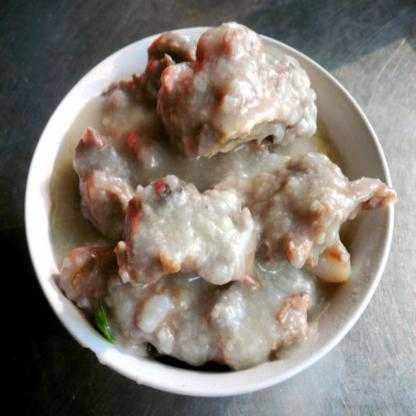Joke: (47, 39, 372, 370)
